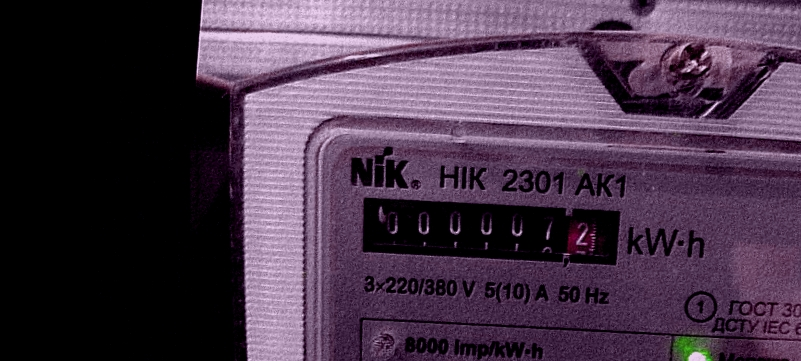0: (383, 207, 402, 235), (477, 209, 496, 237), (446, 207, 464, 236), (415, 208, 433, 236), (509, 210, 526, 239)
2: (574, 220, 592, 248)
7: (540, 212, 557, 243)
screen: (348, 184, 633, 278)
